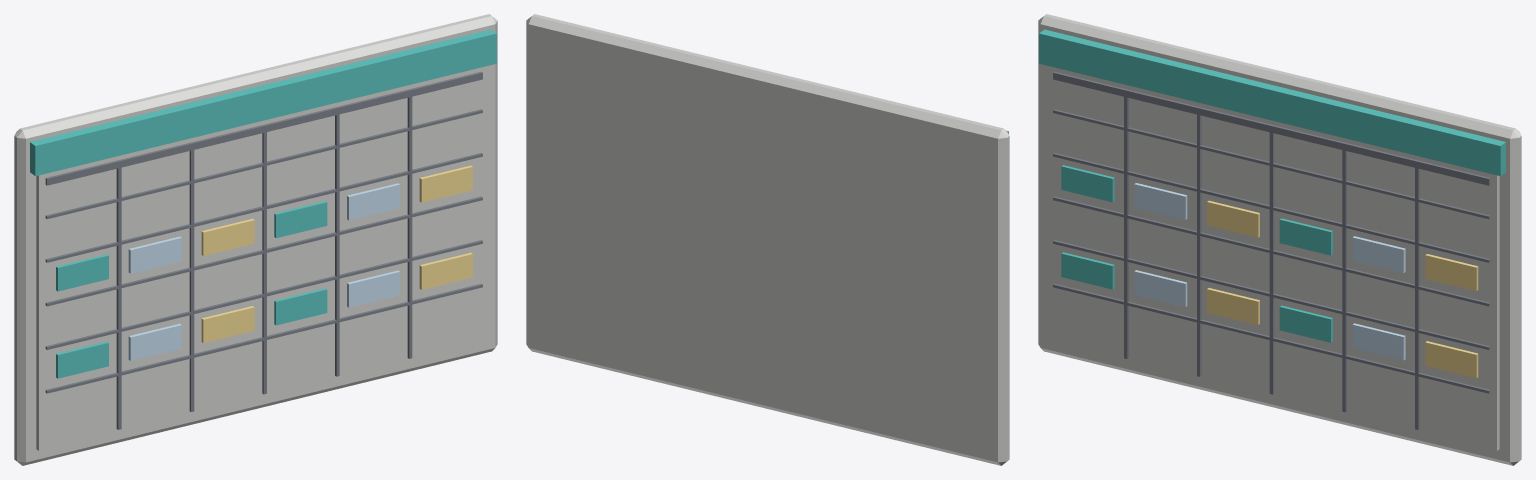
File: medical-23649.glb
3 views of the same model, side by side, from view 1: azimuth 30°, elevation 25°; view 2: azimuth 150°, elevation 25°; view 3: azimuth 330°, elevation 25° (orthographic).
Visible parts, largest first — view 1: staff-rota-board; view 2: staff-rota-board; view 3: staff-rota-board.
Boxes of the visible parts, x1,y1,x2,y2 form: staff-rota-board: [14, 14, 497, 465]; staff-rota-board: [526, 14, 1009, 465]; staff-rota-board: [1038, 14, 1521, 465].
Size of the model in its own units: 1.5 by 1 by 0.08.
